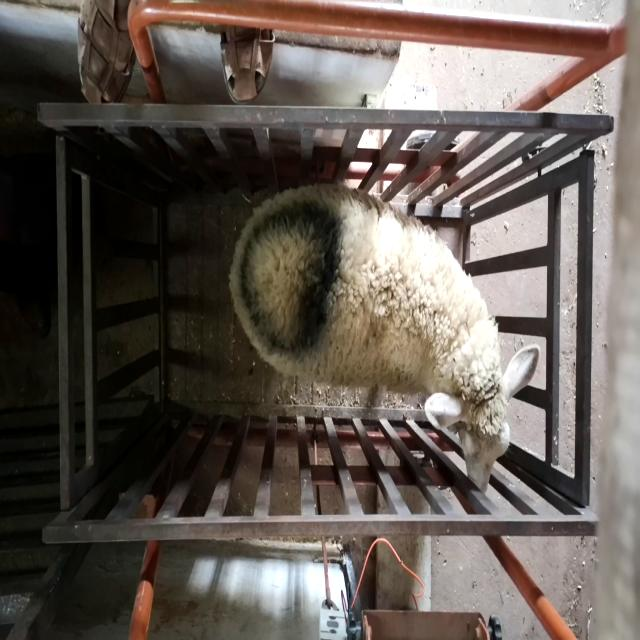sheep: (229, 183, 541, 494)
